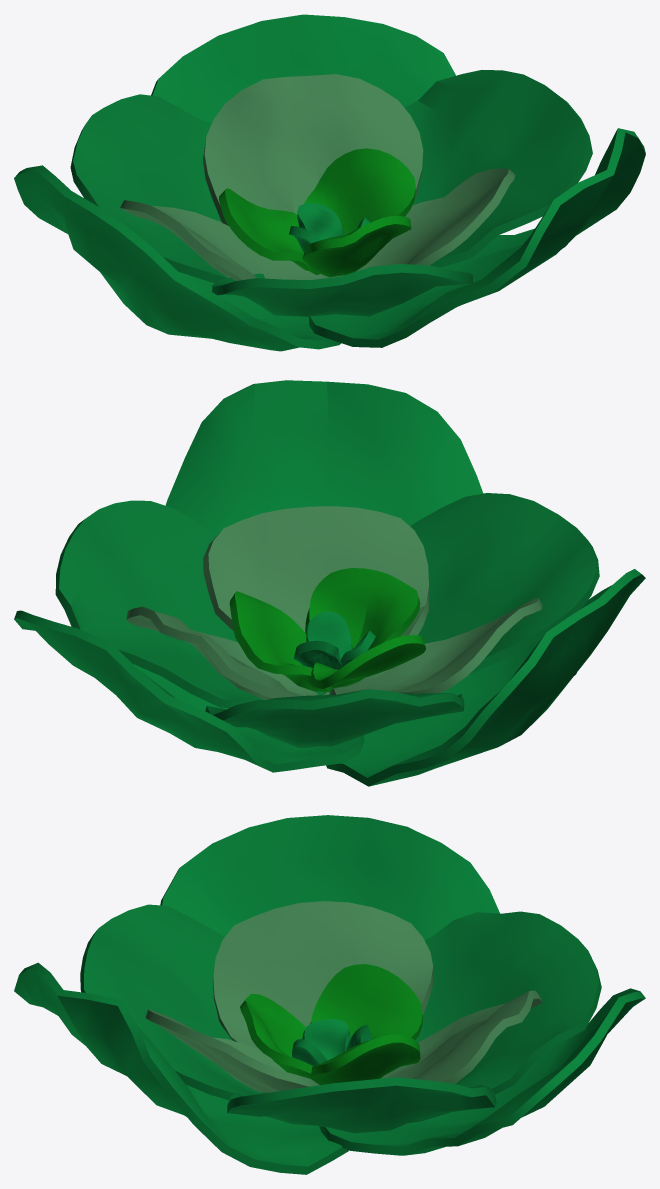
Rendered from lechuga.fbx.
The picture shows the model from 3 angles, top to bottom: view 1: azimuth 30°, elevation 25°; view 2: azimuth 150°, elevation 25°; view 3: azimuth 270°, elevation 25°; orthographic projection.
Parts seen in each view (by area): view 1: Lechuga; view 2: Lechuga; view 3: Lechuga.
Part boxes in pixels (left/top/right/bottom): Lechuga: left=14, top=14, right=645, bottom=351; Lechuga: left=14, top=380, right=645, bottom=786; Lechuga: left=14, top=815, right=645, bottom=1174.
Size of the model in its own units: 265 by 106 by 288.
